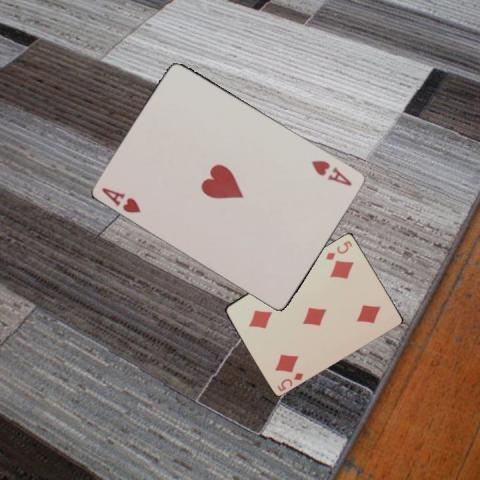5d: (323, 237, 354, 262), (274, 369, 305, 393)
Ah: (98, 184, 142, 215), (309, 157, 354, 187)
